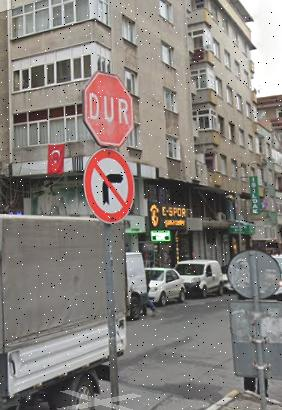rightturnsareforbidden: (86, 149, 134, 220)
stop: (84, 70, 135, 148)
